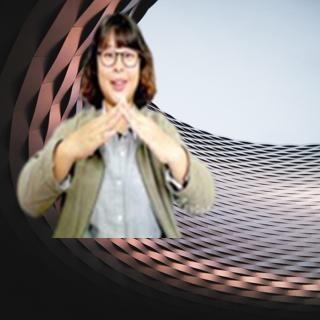HOME: (68, 95, 177, 163)
